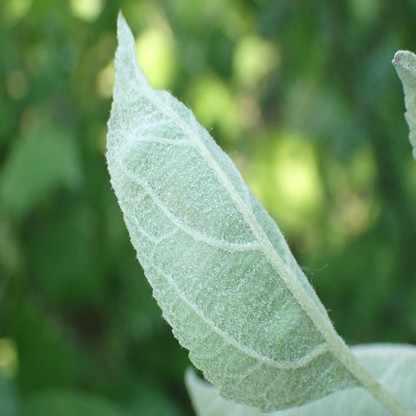powder: (106, 9, 365, 409), (392, 50, 416, 72)
